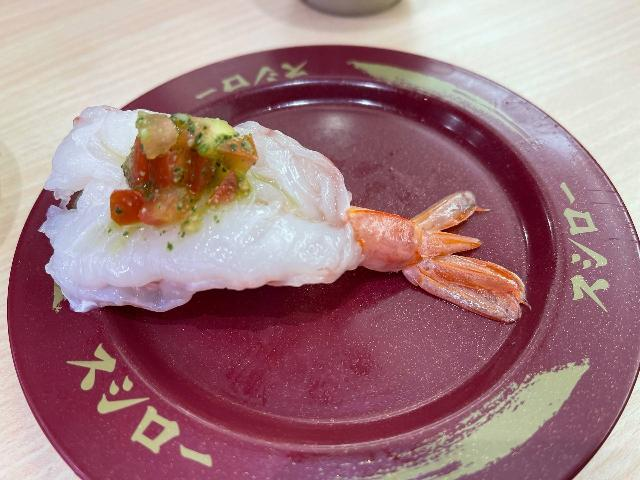janred: (76, 55, 636, 480)
